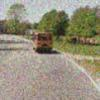buses: (33, 33, 53, 53)
